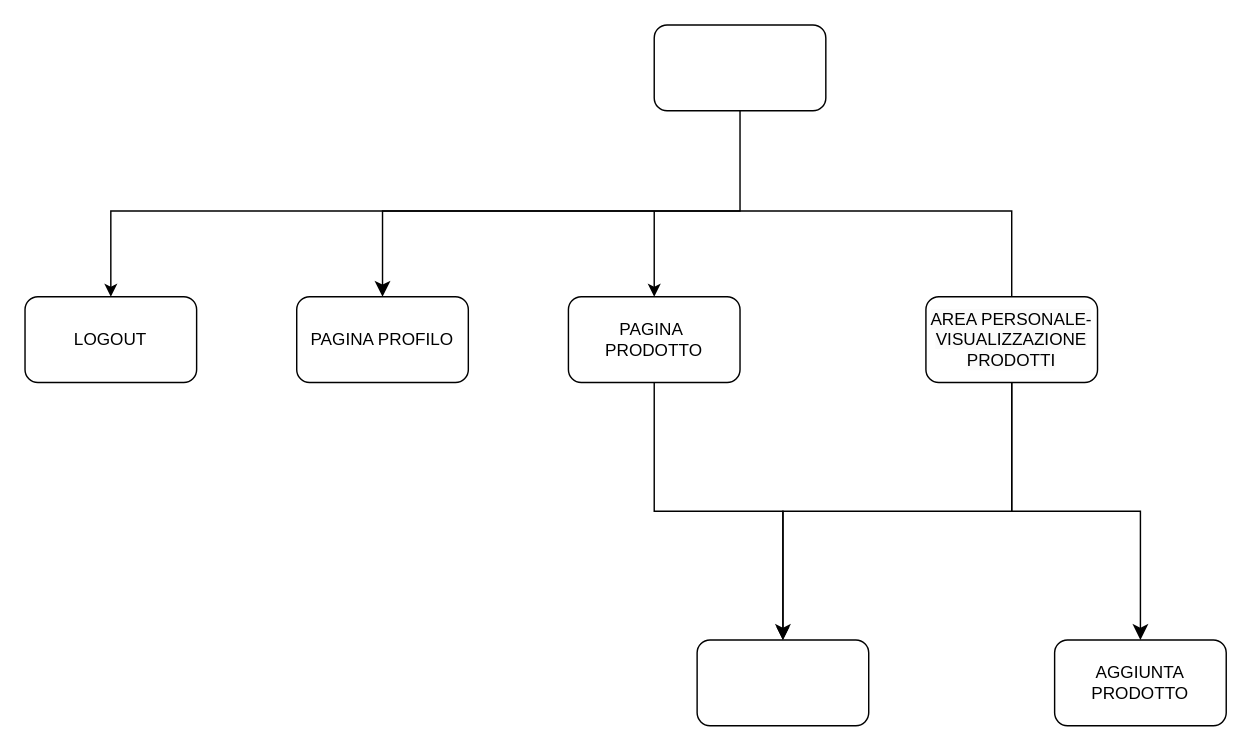
Image size: 1251x751. Some labels were removed from this diagram. Each missing label, with the centre of its shape:
"HOMEPAGE" belongs at point 739,67.
"MODIFICA PRODOTTO" belongs at point 782,682.
